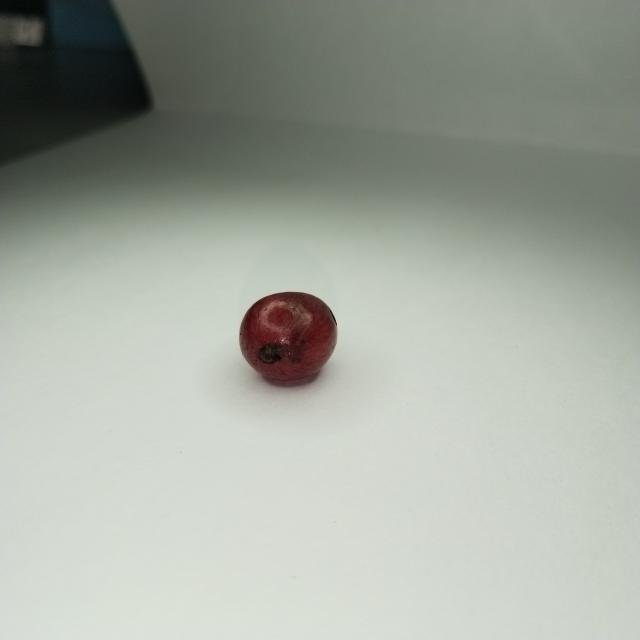Infectado: (240, 292, 338, 381)
